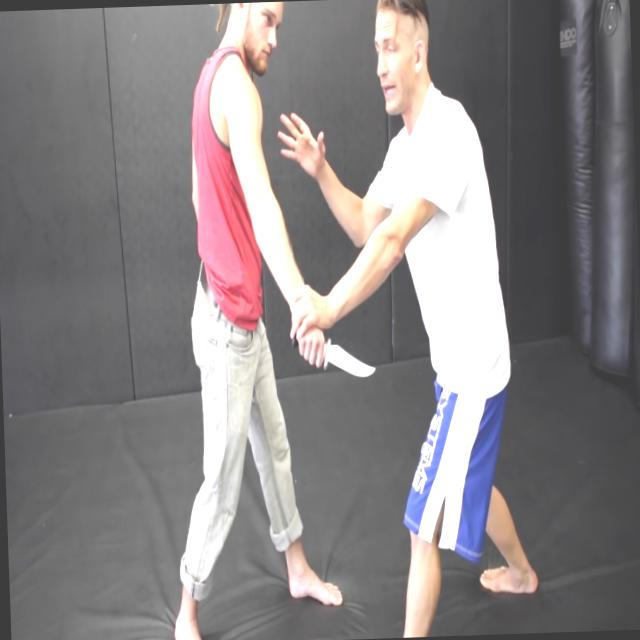knife: (290, 328, 380, 390)
